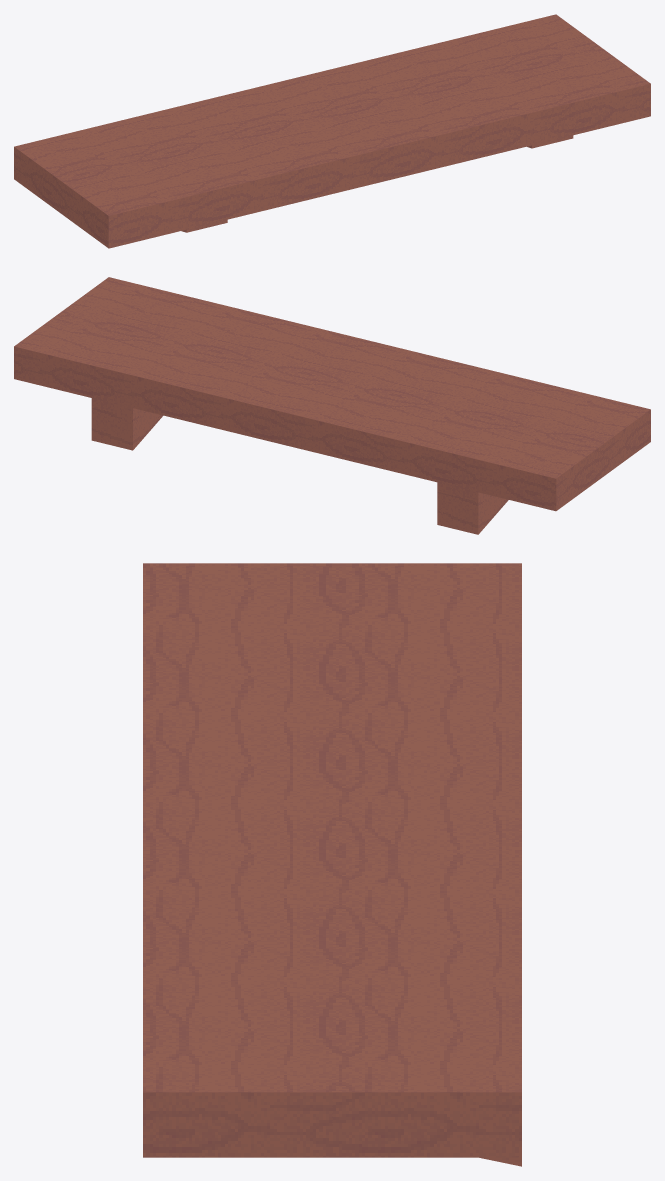
The model's file is shelf.glb.
3 renders of one model, top to bottom at view 1: azimuth 30°, elevation 25°; view 2: azimuth 150°, elevation 25°; view 3: azimuth 270°, elevation 25°, orthographic. The views are drawn at different scales.
Parts seen in each view (by area): view 1: shelf; view 2: shelf; view 3: shelf.
Part boxes in pixels (x1,y1,x2,y2): shelf: (14, 14, 650, 248); shelf: (14, 277, 650, 534); shelf: (143, 563, 521, 1166).
Bounding box in the file's own units: 1.5 × 0.1983 × 0.4538.
1 material, 1 textured.
